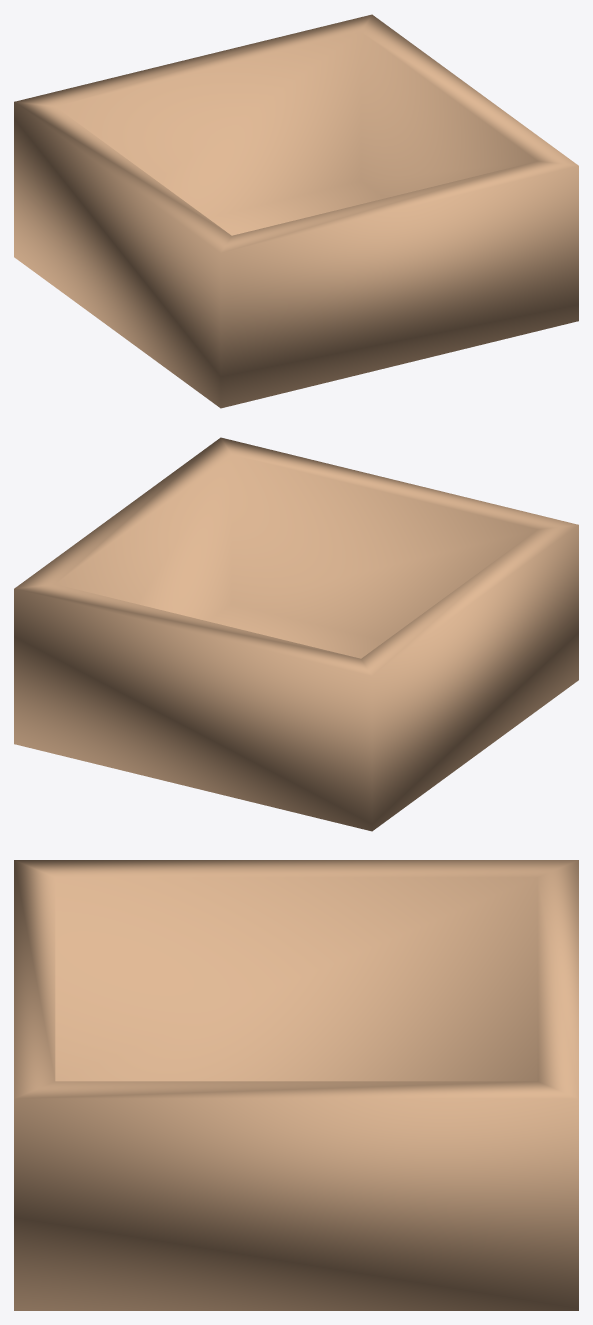
Rendered from TangramBoxBottom.fbx.
3 renders of one model, top to bottom at view 1: azimuth 30°, elevation 25°; view 2: azimuth 150°, elevation 25°; view 3: azimuth 270°, elevation 25°, orthographic. The views are drawn at different scales.
Parts seen in each view (by area): view 1: TangramBoxBottom:Box001; view 2: TangramBoxBottom:Box001; view 3: TangramBoxBottom:Box001.
Part boxes in pixels (left/top/right/bottom): TangramBoxBottom:Box001: left=14, top=14, right=578, bottom=408; TangramBoxBottom:Box001: left=14, top=437, right=578, bottom=831; TangramBoxBottom:Box001: left=14, top=860, right=578, bottom=1310.
Bounding box in the file's own units: 69.36 × 28.74 × 69.36.
